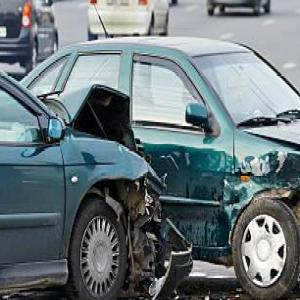significant: (0, 14, 300, 300)
